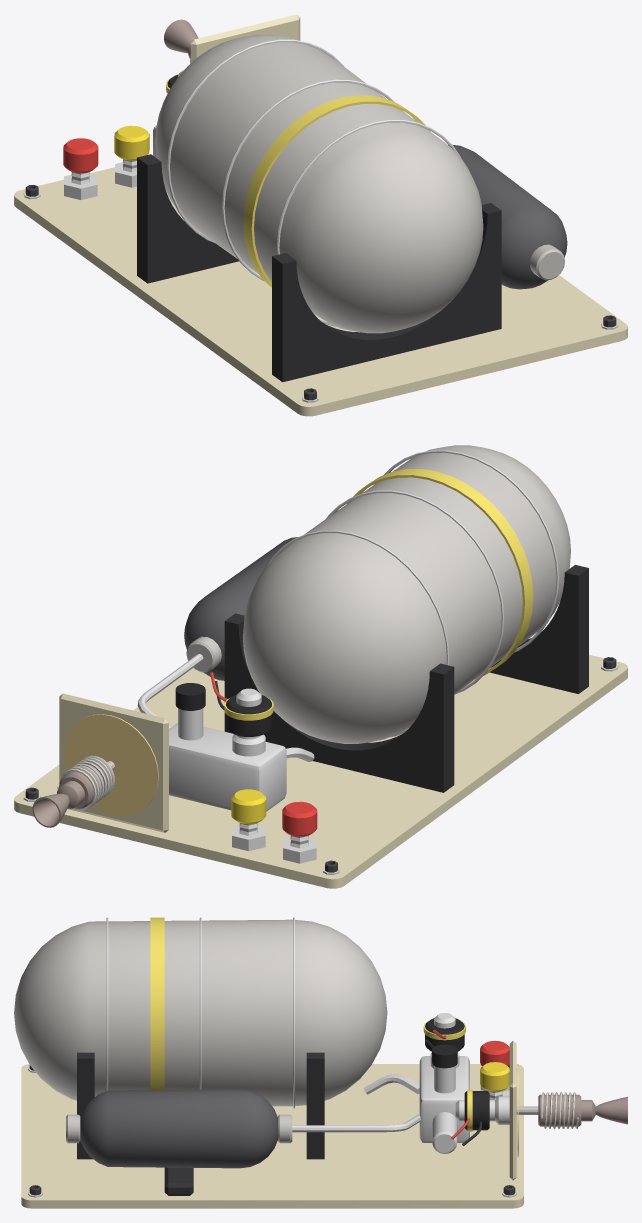
The model's file is green_monoprop_module.glb.
3 renders of one model, top to bottom at view 1: azimuth 30°, elevation 25°; view 2: azimuth 150°, elevation 25°; view 3: azimuth 270°, elevation 25°, orthographic. The views are drawn at different scales.
Parts seen in each view (by area): view 1: green_monoprop_module; view 2: green_monoprop_module; view 3: green_monoprop_module.
Boxes of the visible parts, x1=… form: green_monoprop_module: x1=14, y1=14, x2=627, y2=416; green_monoprop_module: x1=14, y1=445, x2=627, y2=888; green_monoprop_module: x1=14, y1=917, x2=627, y2=1208.
Size of the model in its own units: 0.09 by 0.0602 by 0.171.
